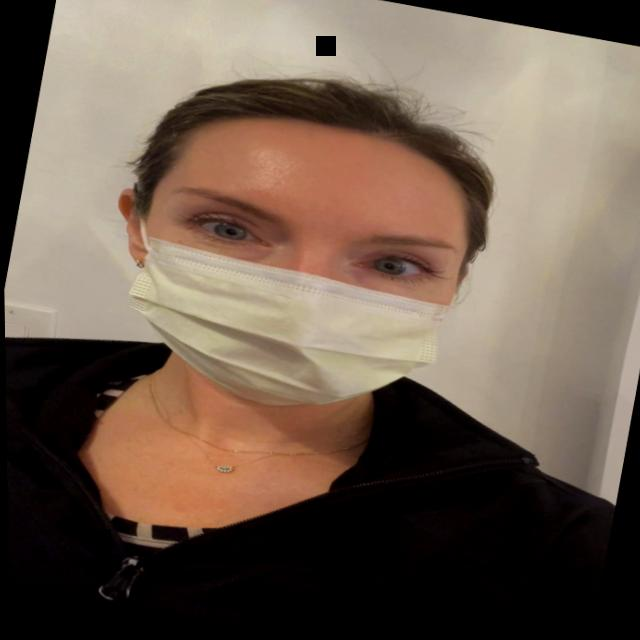Mask: (65, 53, 532, 461)
